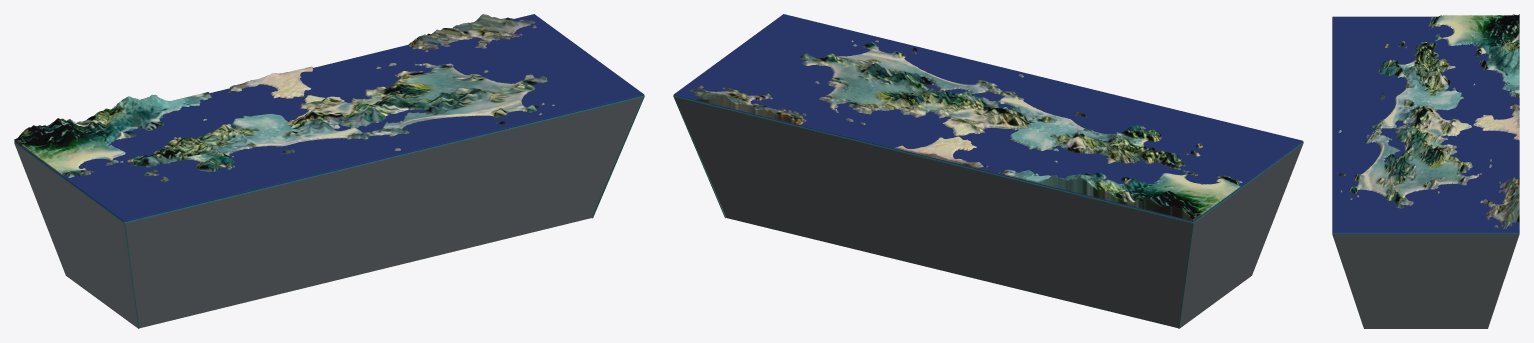
The model's file is sesc.glb.
3 renders of one model, left to right at view 1: azimuth 30°, elevation 25°; view 2: azimuth 150°, elevation 25°; view 3: azimuth 270°, elevation 25°, orthographic. The views are drawn at different scales.
Visible parts, largest first — view 1: SESC-Island, SESC-Island.002, SESC-Island.001_Aggregated; view 2: SESC-Island, SESC-Island.002, SESC-Island.001_Aggregated; view 3: SESC-Island.002, SESC-Island.001_Aggregated, SESC-Island.
Part boxes in pixels (x1,y1,x2,y2): SESC-Island: [14, 95, 644, 328]; SESC-Island.002: [14, 14, 644, 222]; SESC-Island.001_Aggregated: [14, 14, 554, 181]; SESC-Island: [673, 95, 1303, 328]; SESC-Island.002: [673, 14, 1303, 221]; SESC-Island.001_Aggregated: [690, 40, 1242, 220]; SESC-Island.002: [1332, 16, 1519, 233]; SESC-Island.001_Aggregated: [1338, 14, 1519, 228]; SESC-Island: [1332, 233, 1519, 328].
Size of the model in its own units: 9 by 2.43 by 3.3.
Materials: 4 (1 with a texture image).
